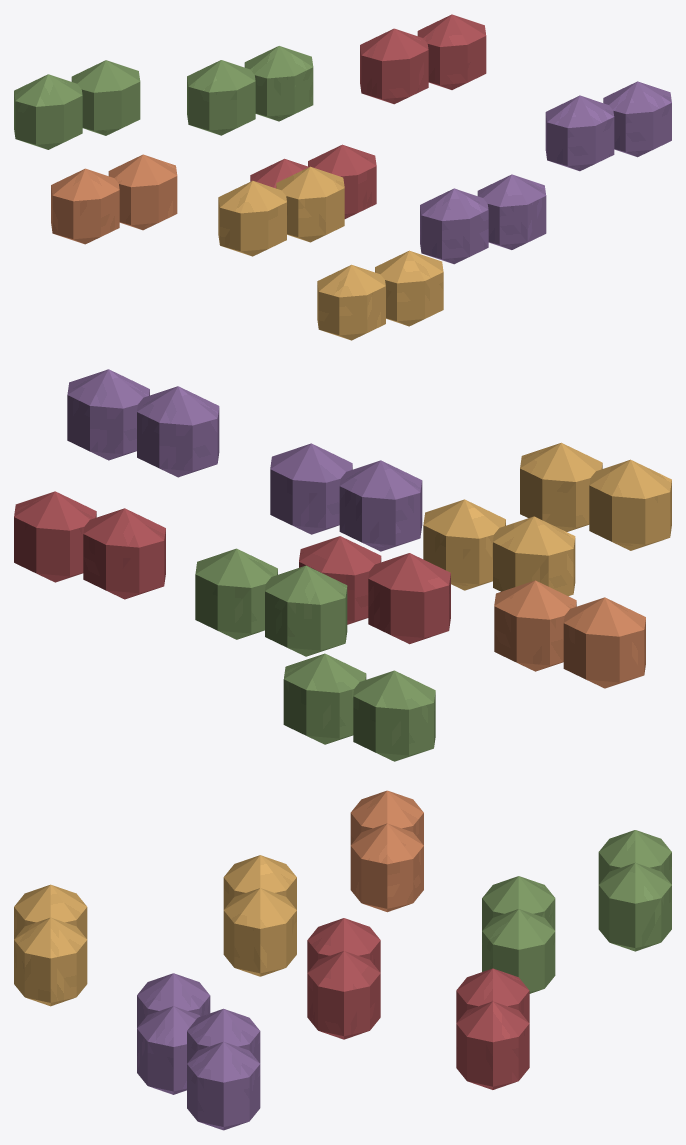
The model's file is candy_coated_peanuts.glb.
The picture shows the model from 3 angles, top to bottom: view 1: azimuth 30°, elevation 25°; view 2: azimuth 150°, elevation 25°; view 3: azimuth 270°, elevation 25°; orthographic projection. The views are drawn at different scales.
Visible parts, largest first — view 1: block_coated peanut lobe (×18); view 2: block_coated peanut lobe (×18); view 3: block_coated peanut lobe (×18).
Part boxes in pixels (x1,y1,x2,y2): block_coated peanut lobe (×18): (14,14,671,340); block_coated peanut lobe (×18): (14,369,671,761); block_coated peanut lobe (×18): (14,790,671,1130).
Bounding box in the file's own units: 0.0955 × 0.0195 × 0.0849.
1 material, 1 textured.
